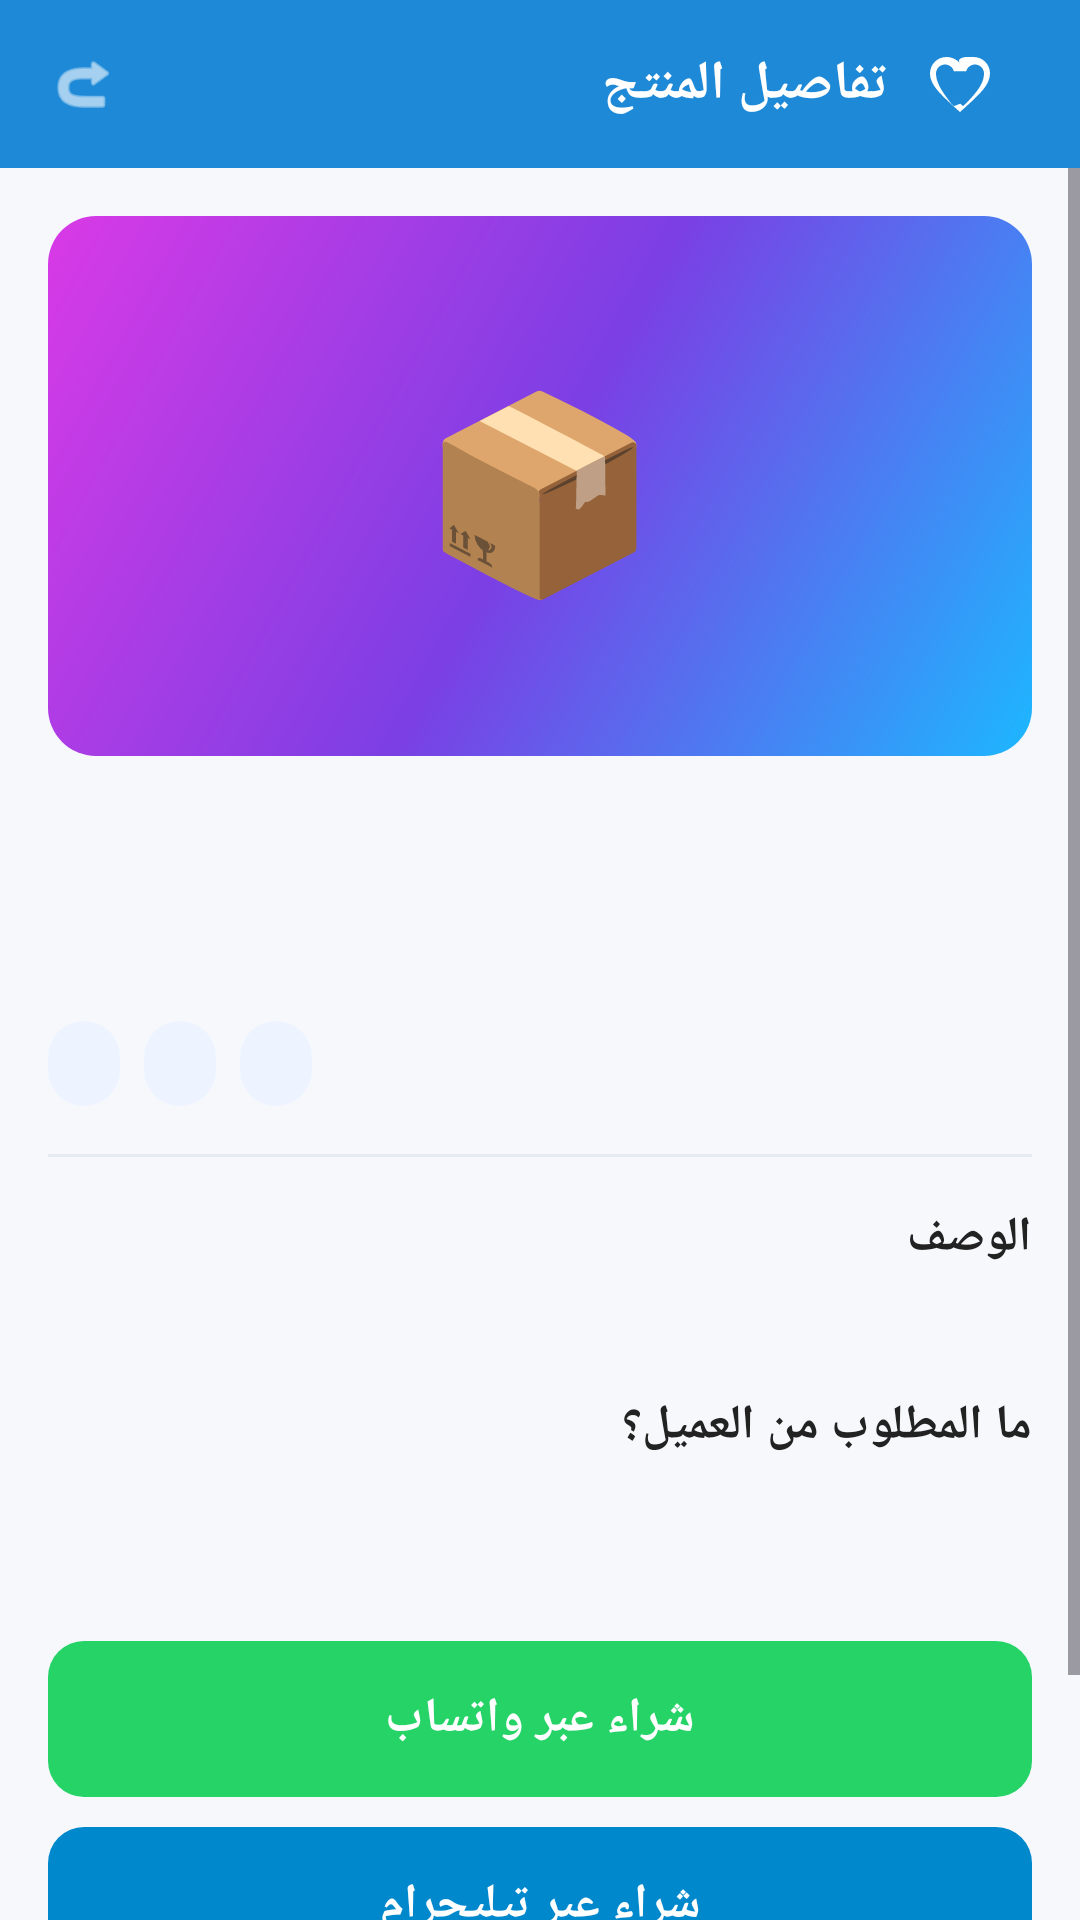

Where icons sit on this 1080px×1920px app screen, as (x1=x1, y1=y1, x2=x2, y2=y2):
مفضلة: (x1=930, y1=57, x2=990, y2=112)
